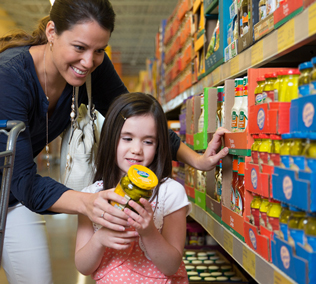Age_30_40: (48, 0, 117, 88)
Age_below20: (107, 96, 170, 168)
E_White: (48, 0, 117, 88), (107, 96, 170, 168)
Emotion_Happy: (48, 0, 117, 88), (107, 96, 170, 168)
G_ Female: (48, 0, 117, 88), (107, 96, 170, 168)
